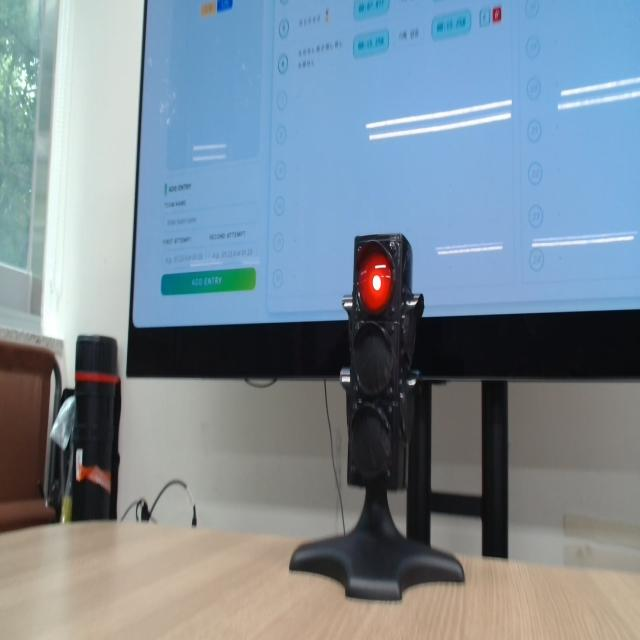red_light: (359, 247, 393, 313)
